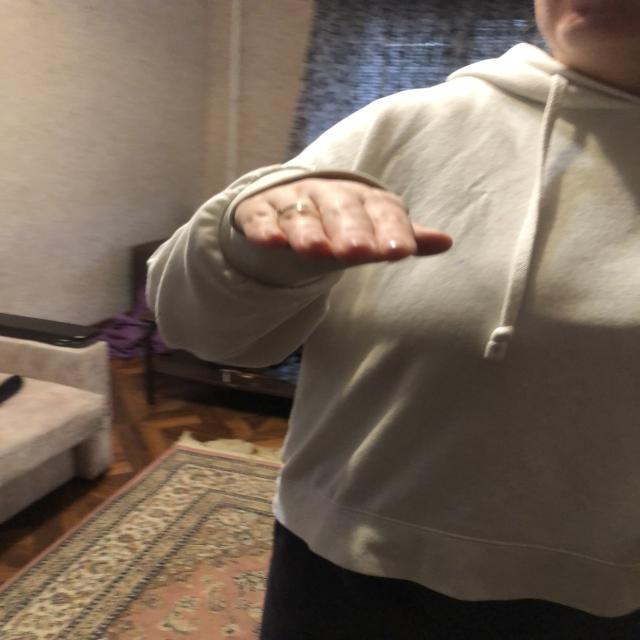paper: (224, 181, 452, 262)
